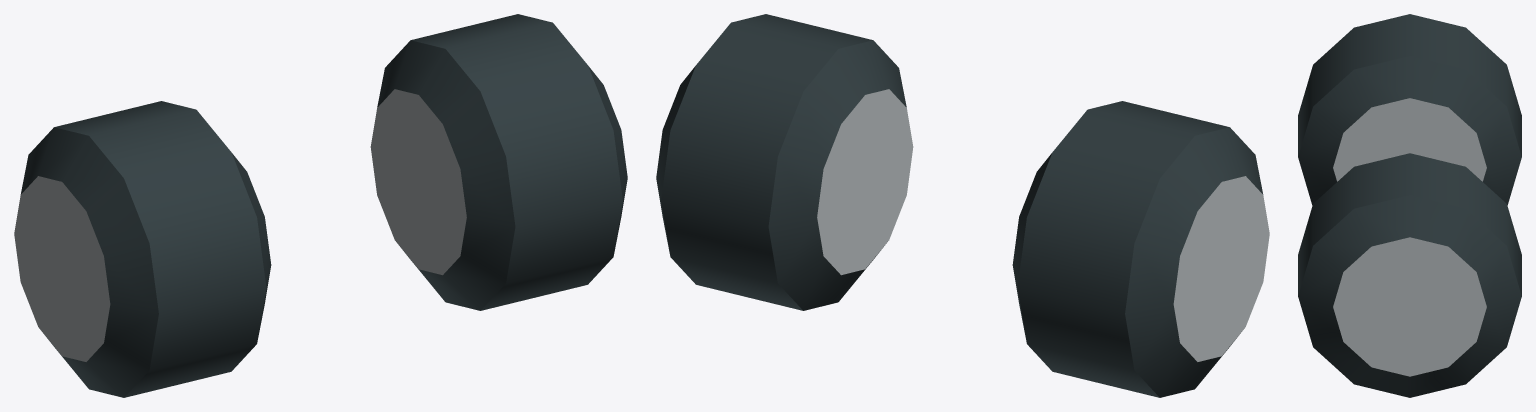
File: Delivery_drone_001_wheels_001.fbx
3 views of the same model, side by side, from view 1: azimuth 30°, elevation 25°; view 2: azimuth 150°, elevation 25°; view 3: azimuth 270°, elevation 25° (orthographic). The views are drawn at different scales.
Visible parts, largest first — view 1: Delivery_drone_001_wheels_001; view 2: Delivery_drone_001_wheels_001; view 3: Delivery_drone_001_wheels_001.
Part boxes in pixels (<box>): Delivery_drone_001_wheels_001: <box>14,14,627,397</box>; Delivery_drone_001_wheels_001: <box>656,14,1269,397</box>; Delivery_drone_001_wheels_001: <box>1298,14,1521,397</box>.
Bounding box in the file's own units: 55.52 × 26 × 26.
